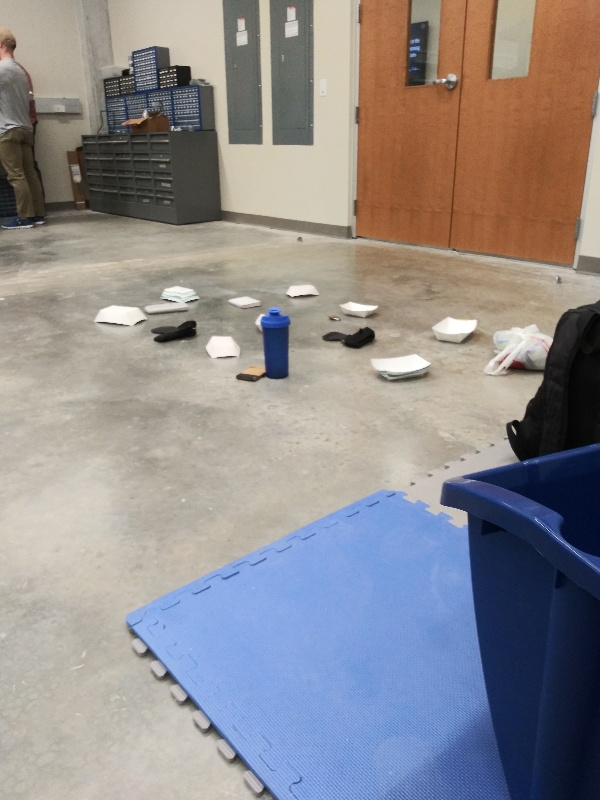plate: (427, 311, 481, 348), (366, 353, 433, 381), (90, 300, 148, 327), (203, 332, 243, 360), (156, 282, 201, 305), (334, 297, 380, 319), (281, 280, 322, 298)
